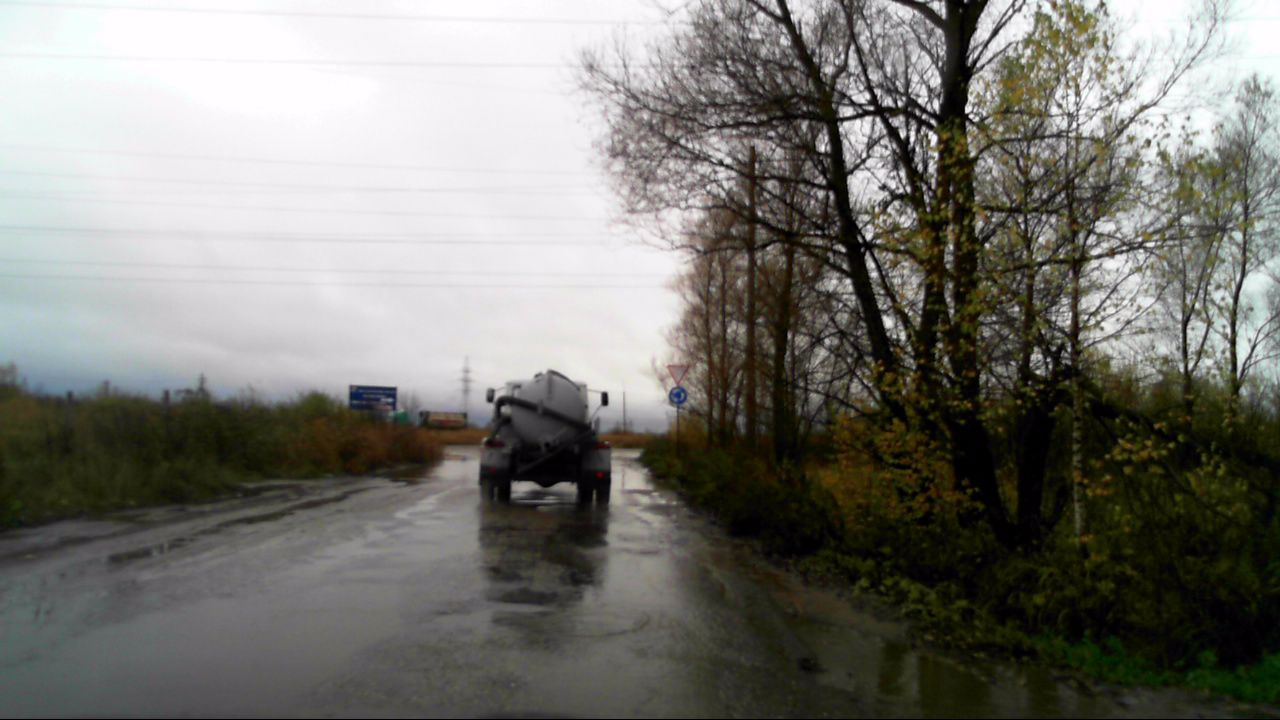Round-About: (667, 385, 689, 407)
